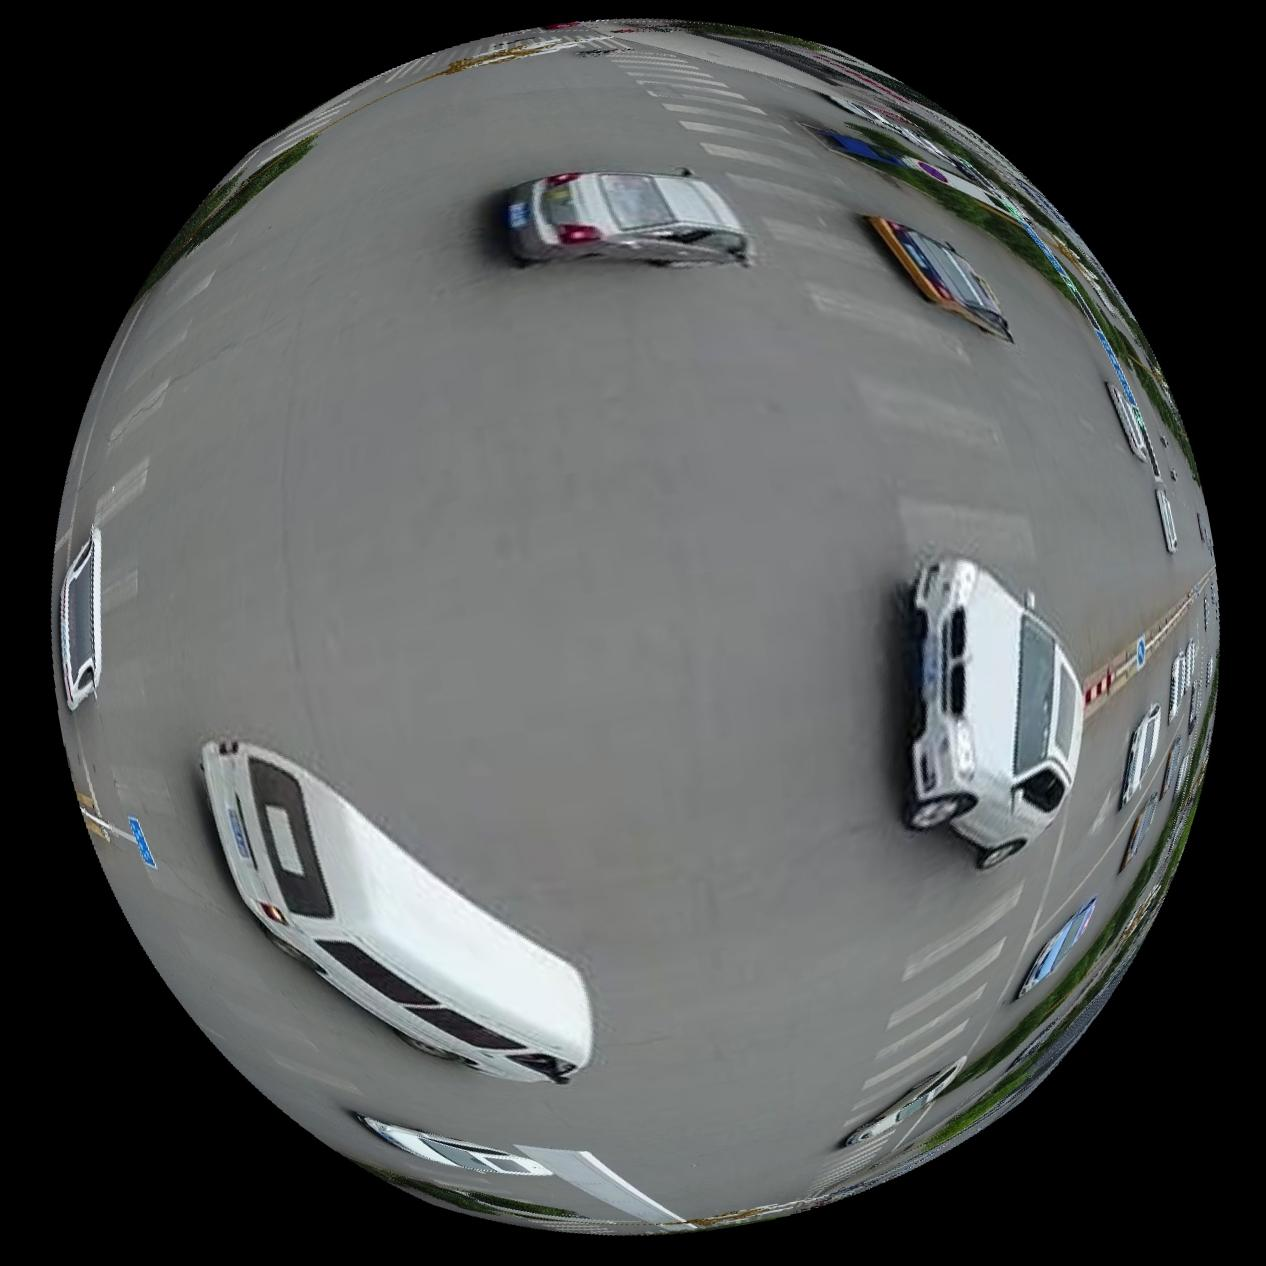cars: (199, 739, 591, 1086), (904, 556, 1084, 871), (504, 168, 754, 268), (866, 213, 1013, 340), (355, 1116, 551, 1176), (841, 1057, 967, 1148), (1017, 898, 1097, 1001), (56, 527, 99, 711), (1120, 704, 1162, 809), (1155, 487, 1179, 553)
trees: (134, 130, 316, 297)
